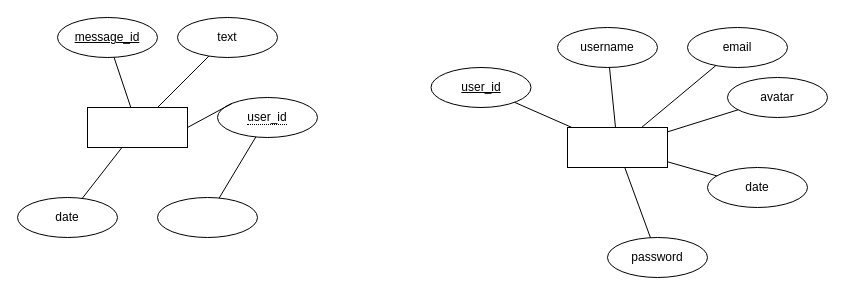
This 845x295 diagram has some shape labels left out. Here are the shapes that lost their labels. From the top down, the centre of each, then its label:
At (x=137, y=127): "message".
At (x=617, y=147): "user".
At (x=207, y=217): "title".
